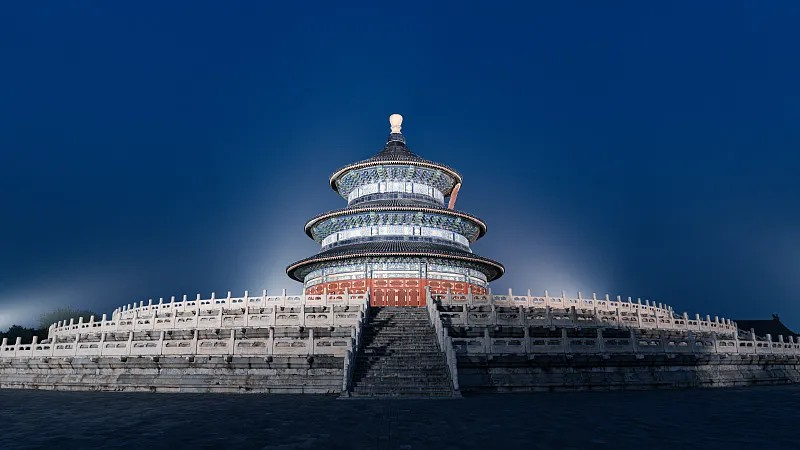Heaven: (285, 112, 504, 306)
